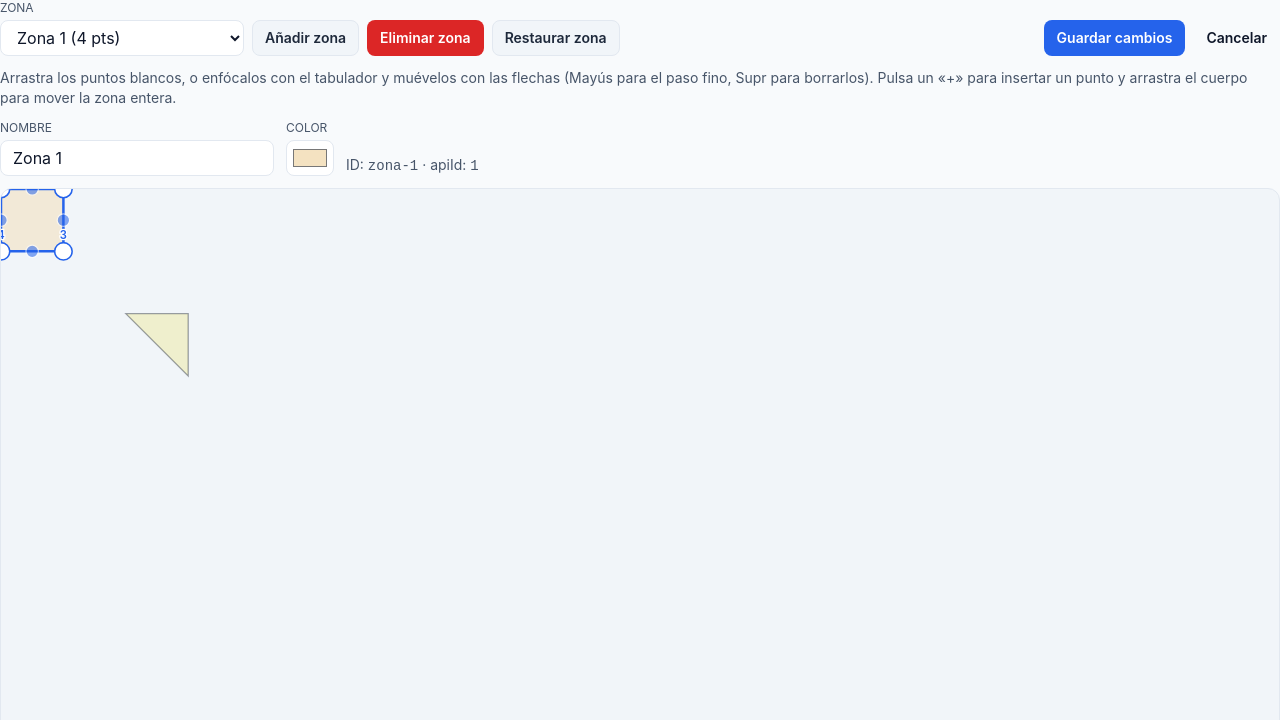
adversarial · el editor bajo presión › el error de validación se limpia al corregir
The width and height of the screenshot is (1280, 720).
Click the button "Añadir zona". click: (306, 38)
box: top-left (252, 20), bottom-right (359, 56)
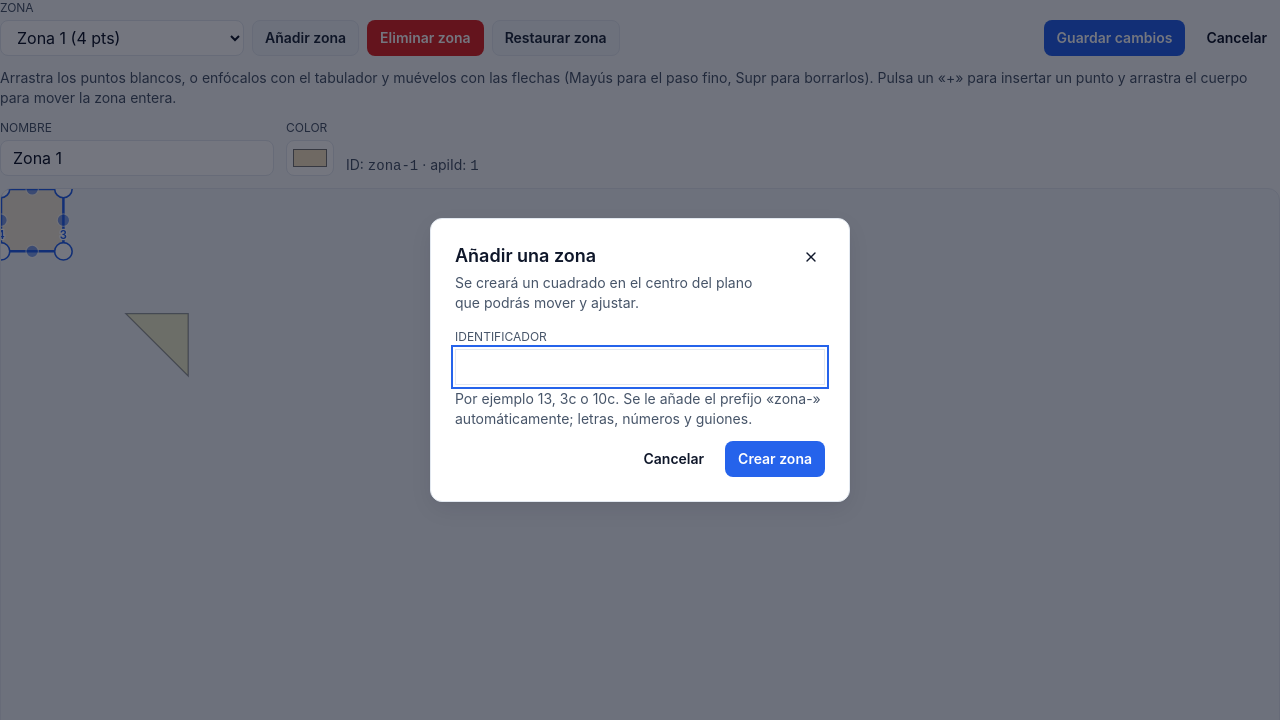
Type "9b" into the field. click: (640, 367)
box: top-left (455, 349), bottom-right (825, 385)
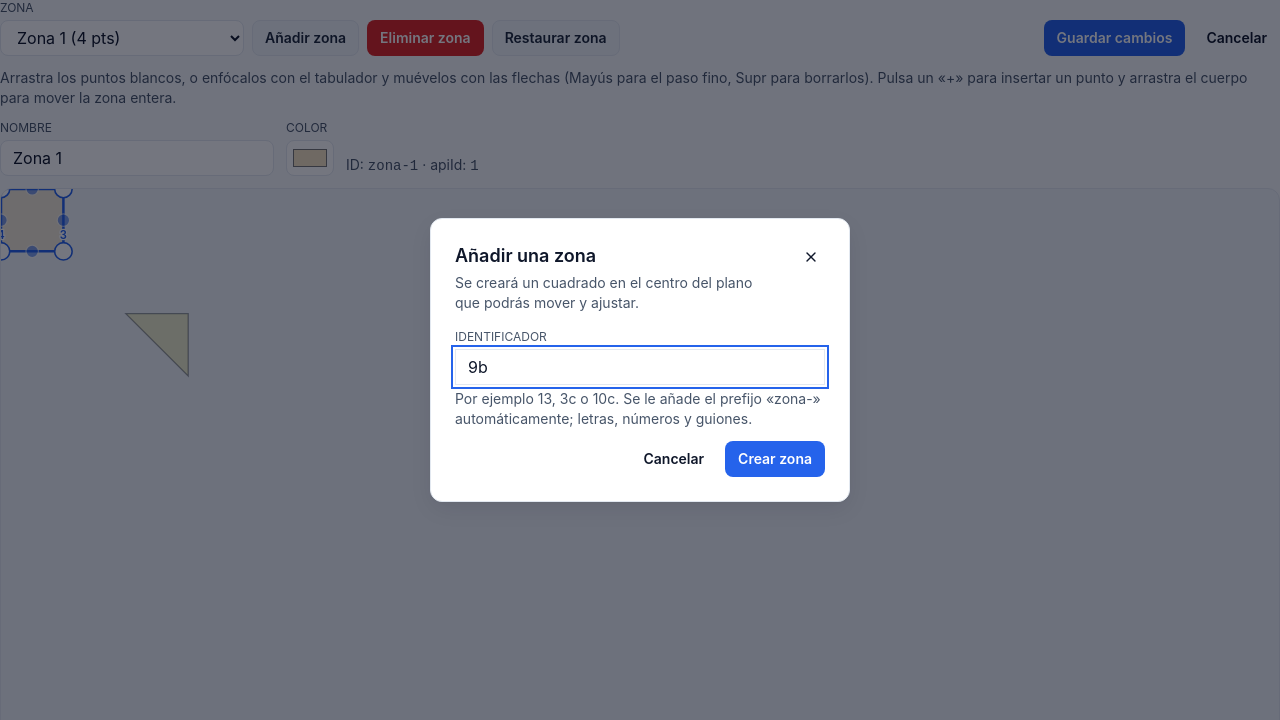
Click the button "Crear zona". click: (775, 459)
box: top-left (725, 441), bottom-right (825, 477)
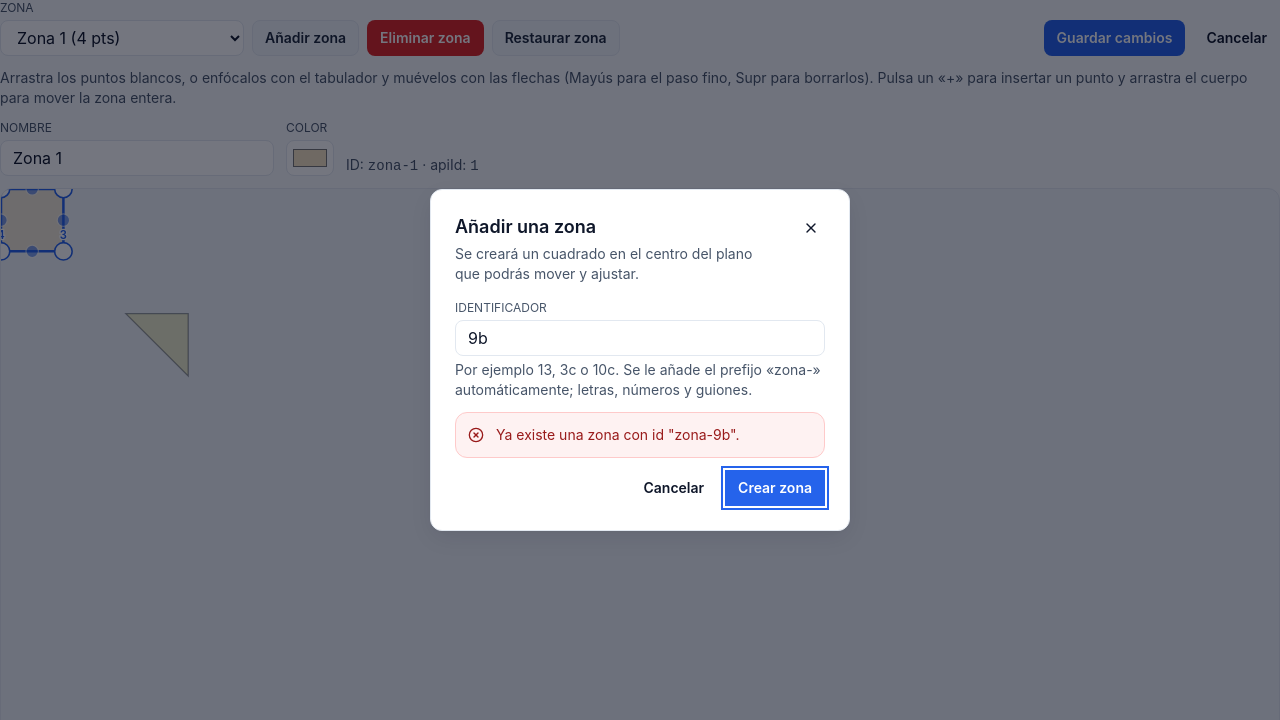
Result: the message "Ya existe una zona con id \"zona-9b\"." is shown at top-left (455, 412), bottom-right (825, 458)
Type "z" into the field. click: (640, 338)
box: top-left (455, 320), bottom-right (825, 356)
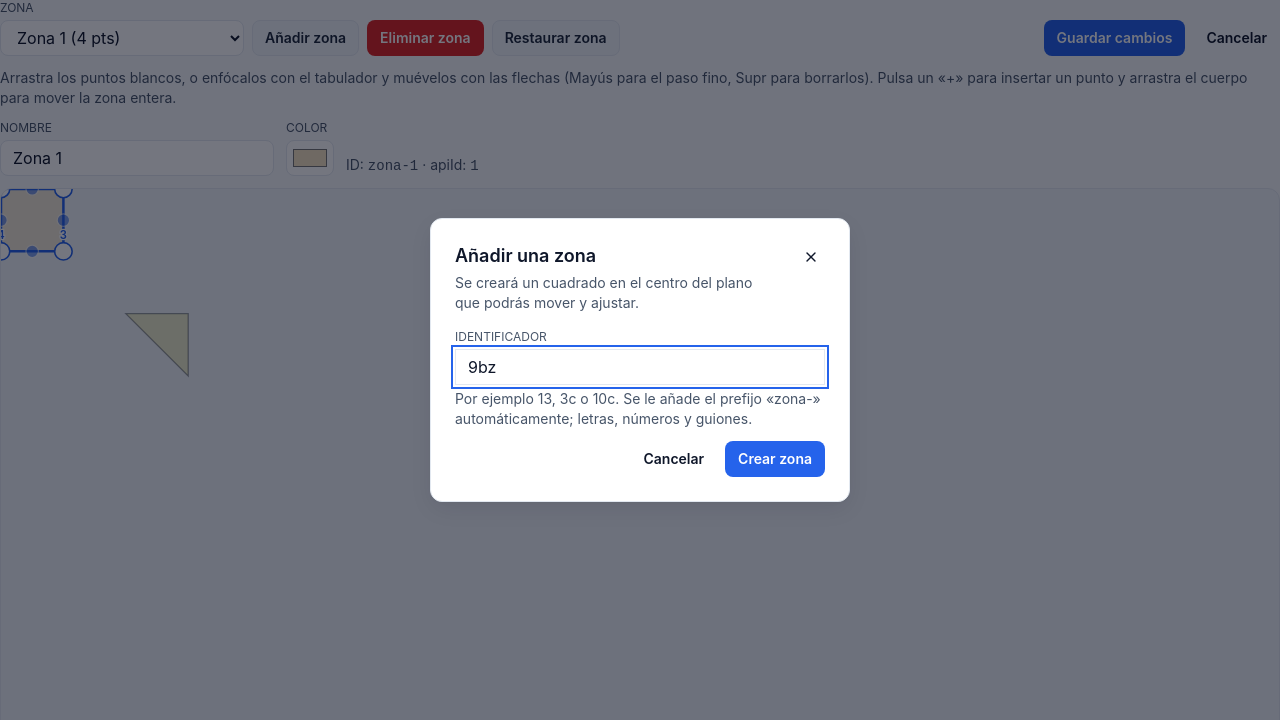
Result: the message "Ya existe una zona con id \"zona-9b\"." is gone
